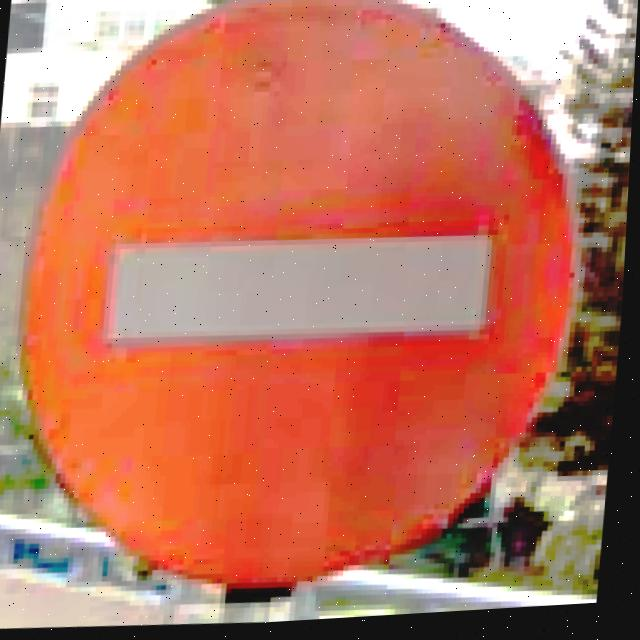noentry: (0, 0, 605, 618)
